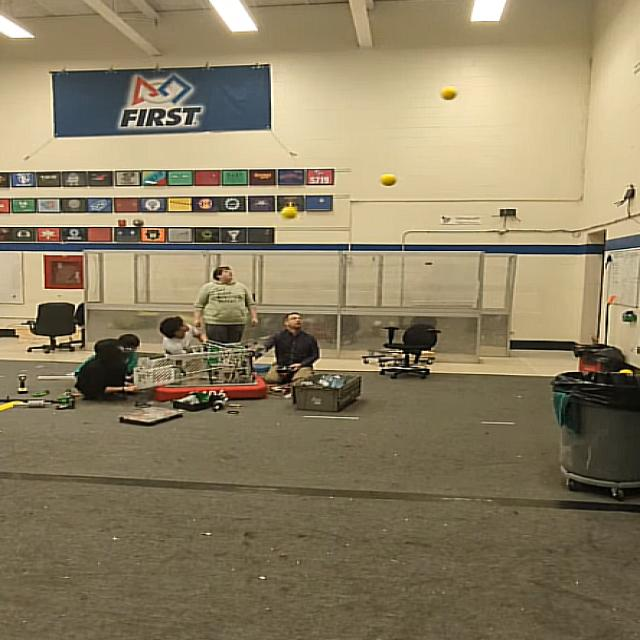Fuel: (439, 86, 456, 100), (281, 204, 297, 218), (440, 86, 456, 100), (379, 173, 395, 186), (380, 174, 396, 186)
